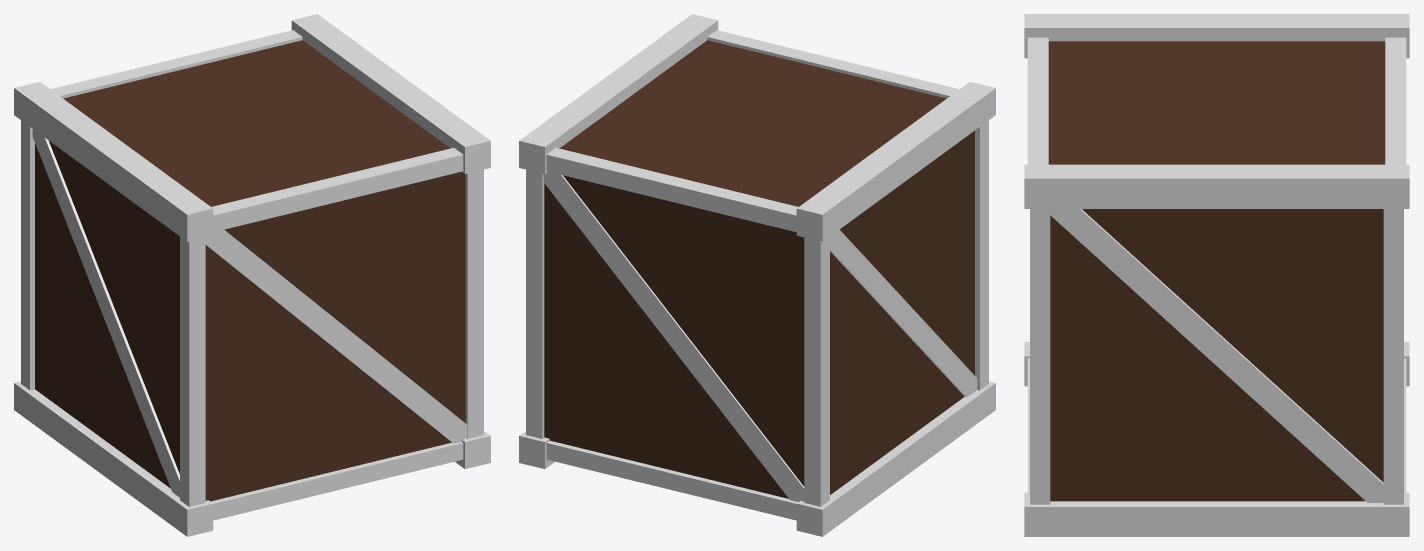
File: CubeCrate.fbx
The picture shows the model from 3 angles, left to right: view 1: azimuth 30°, elevation 25°; view 2: azimuth 150°, elevation 25°; view 3: azimuth 270°, elevation 25°; orthographic projection. The views are drawn at different scales.
Visible parts, largest first — view 1: Crate_LOD0; view 2: Crate_LOD0; view 3: Crate_LOD0.
Boxes of the visible parts, x1=… form: Crate_LOD0: x1=14, y1=14, x2=490, y2=536; Crate_LOD0: x1=519, y1=14, x2=995, y2=536; Crate_LOD0: x1=1024, y1=14, x2=1409, y2=536.
Size of what is drawn, in the model's own units: 101 by 102 by 99.58.
